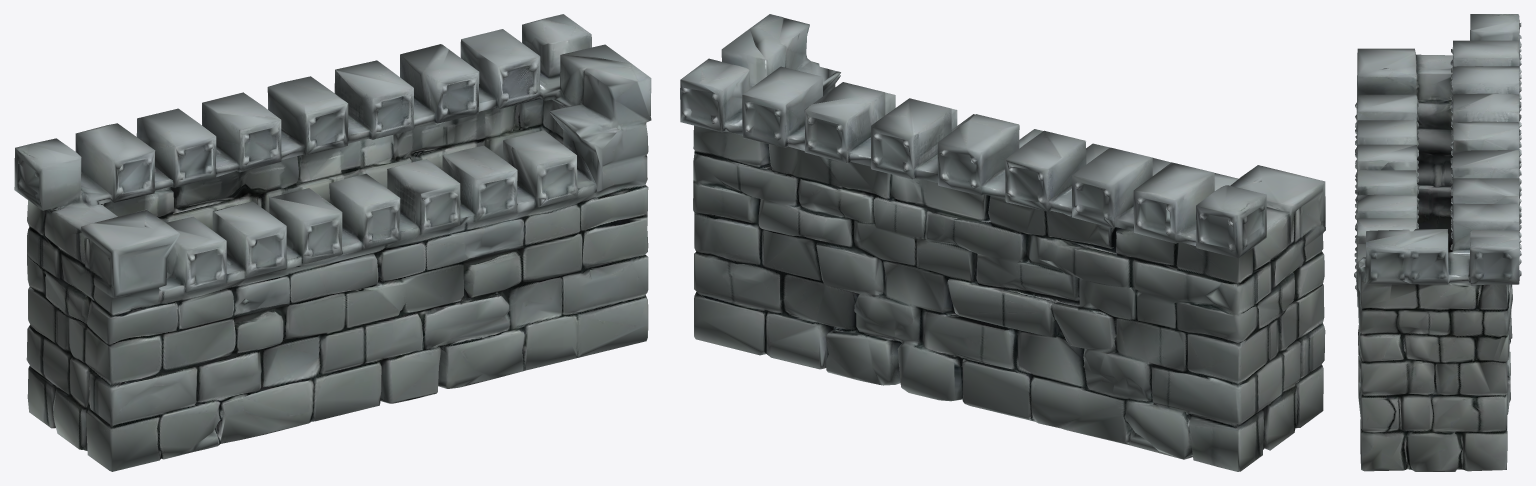
File: base-wall.glb
3 views of the same model, side by side, from view 1: azimuth 30°, elevation 25°; view 2: azimuth 150°, elevation 25°; view 3: azimuth 270°, elevation 25° (orthographic). The views are drawn at different scales.
Size of the model in its own units: 1.91 by 0.8587 by 0.5763.
1 material, 1 textured.
